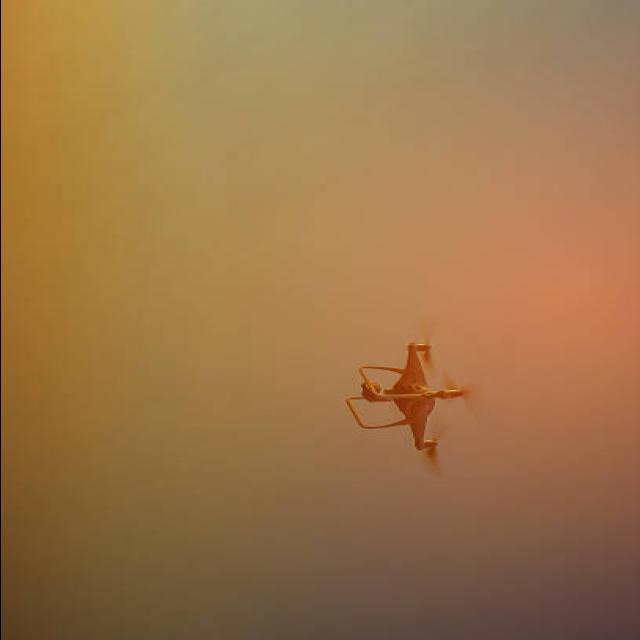drone: (344, 338, 468, 472)
